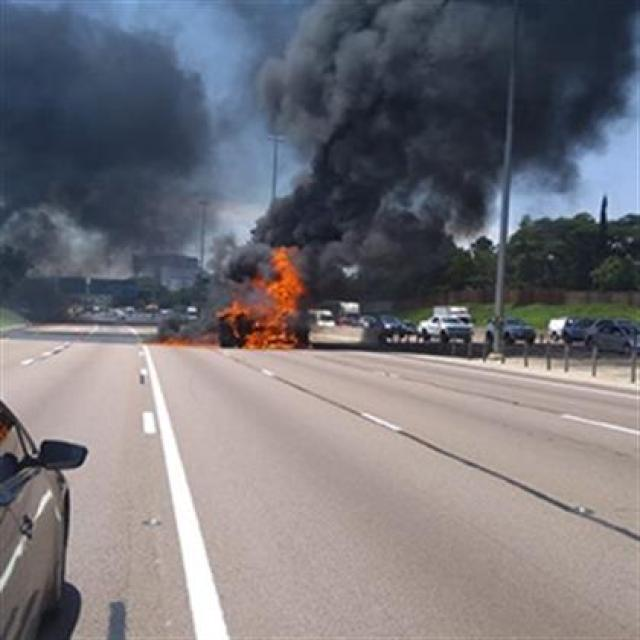Fire: (225, 240, 316, 354)
Smoke: (303, 0, 640, 290), (0, 0, 223, 308)
